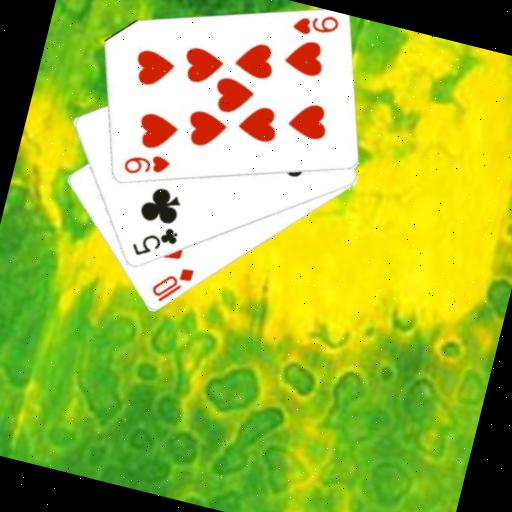10D: (147, 258, 197, 311)
5C: (127, 217, 182, 267)
9H: (119, 145, 174, 185), (288, 4, 343, 44)
